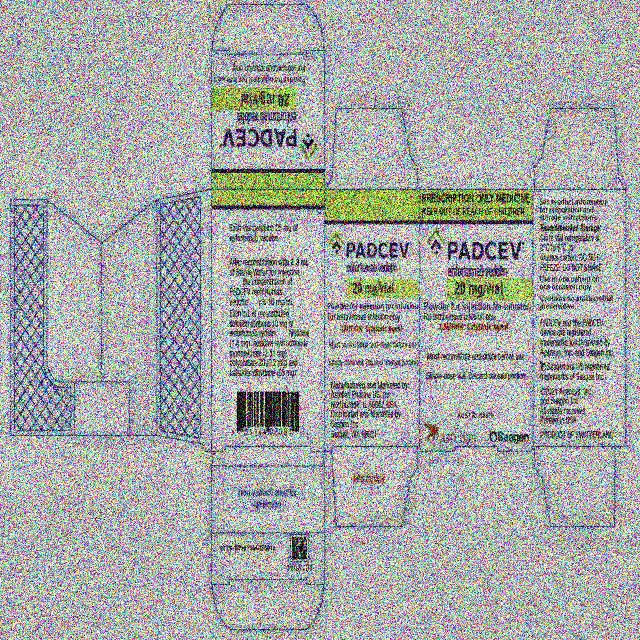Artwork: (0, 0, 640, 640)
Back_Panel: (212, 189, 324, 450)
Bottom_Part: (211, 449, 324, 583)
Extra_Areas: (11, 187, 210, 454), (533, 106, 626, 191), (327, 446, 419, 531), (327, 110, 420, 189), (534, 449, 617, 529), (211, 3, 325, 51), (211, 584, 324, 631)
Front_Panel: (420, 190, 534, 452)
Side_Panel: (325, 190, 420, 446), (534, 191, 627, 448)
Top_Panel: (212, 51, 325, 190)
